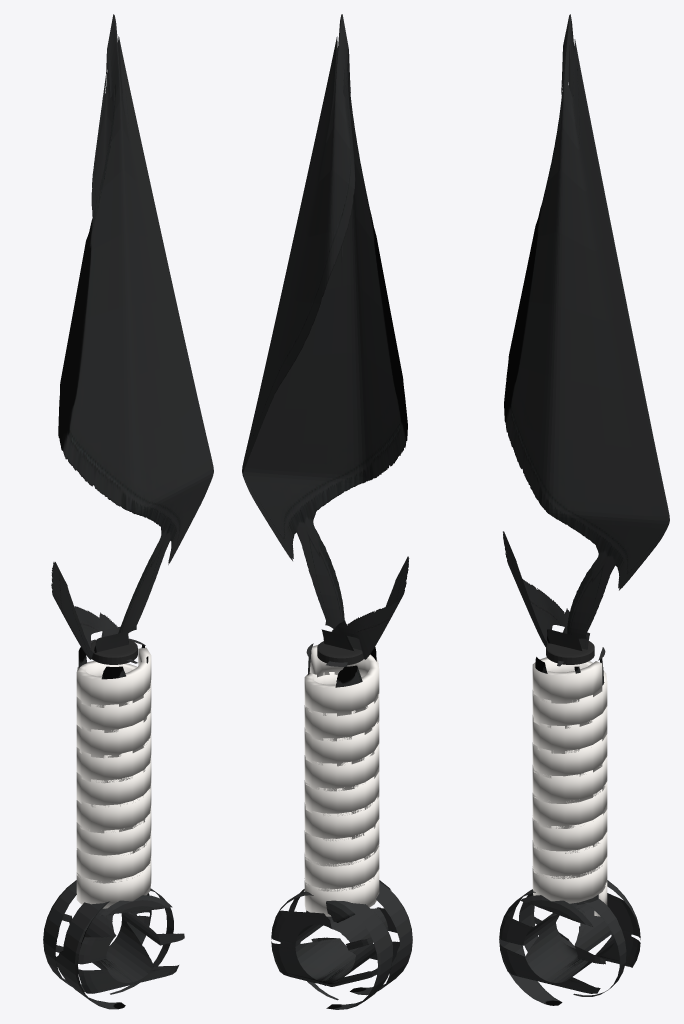
The model's file is kunaipivot9.fbx.
The picture shows the model from 3 angles, left to right: view 1: azimuth 30°, elevation 25°; view 2: azimuth 150°, elevation 25°; view 3: azimuth 330°, elevation 25°; orthographic projection.
Visible parts, largest first — view 1: Cube.001; view 2: Cube.001; view 3: Cube.001.
Boxes of the visible parts, <box> form: Cube.001: <box>43,14,213,1009</box>; Cube.001: <box>242,14,412,1009</box>; Cube.001: <box>499,14,669,1005</box>.
Size of the model in its own units: 474 by 2227 by 174.
